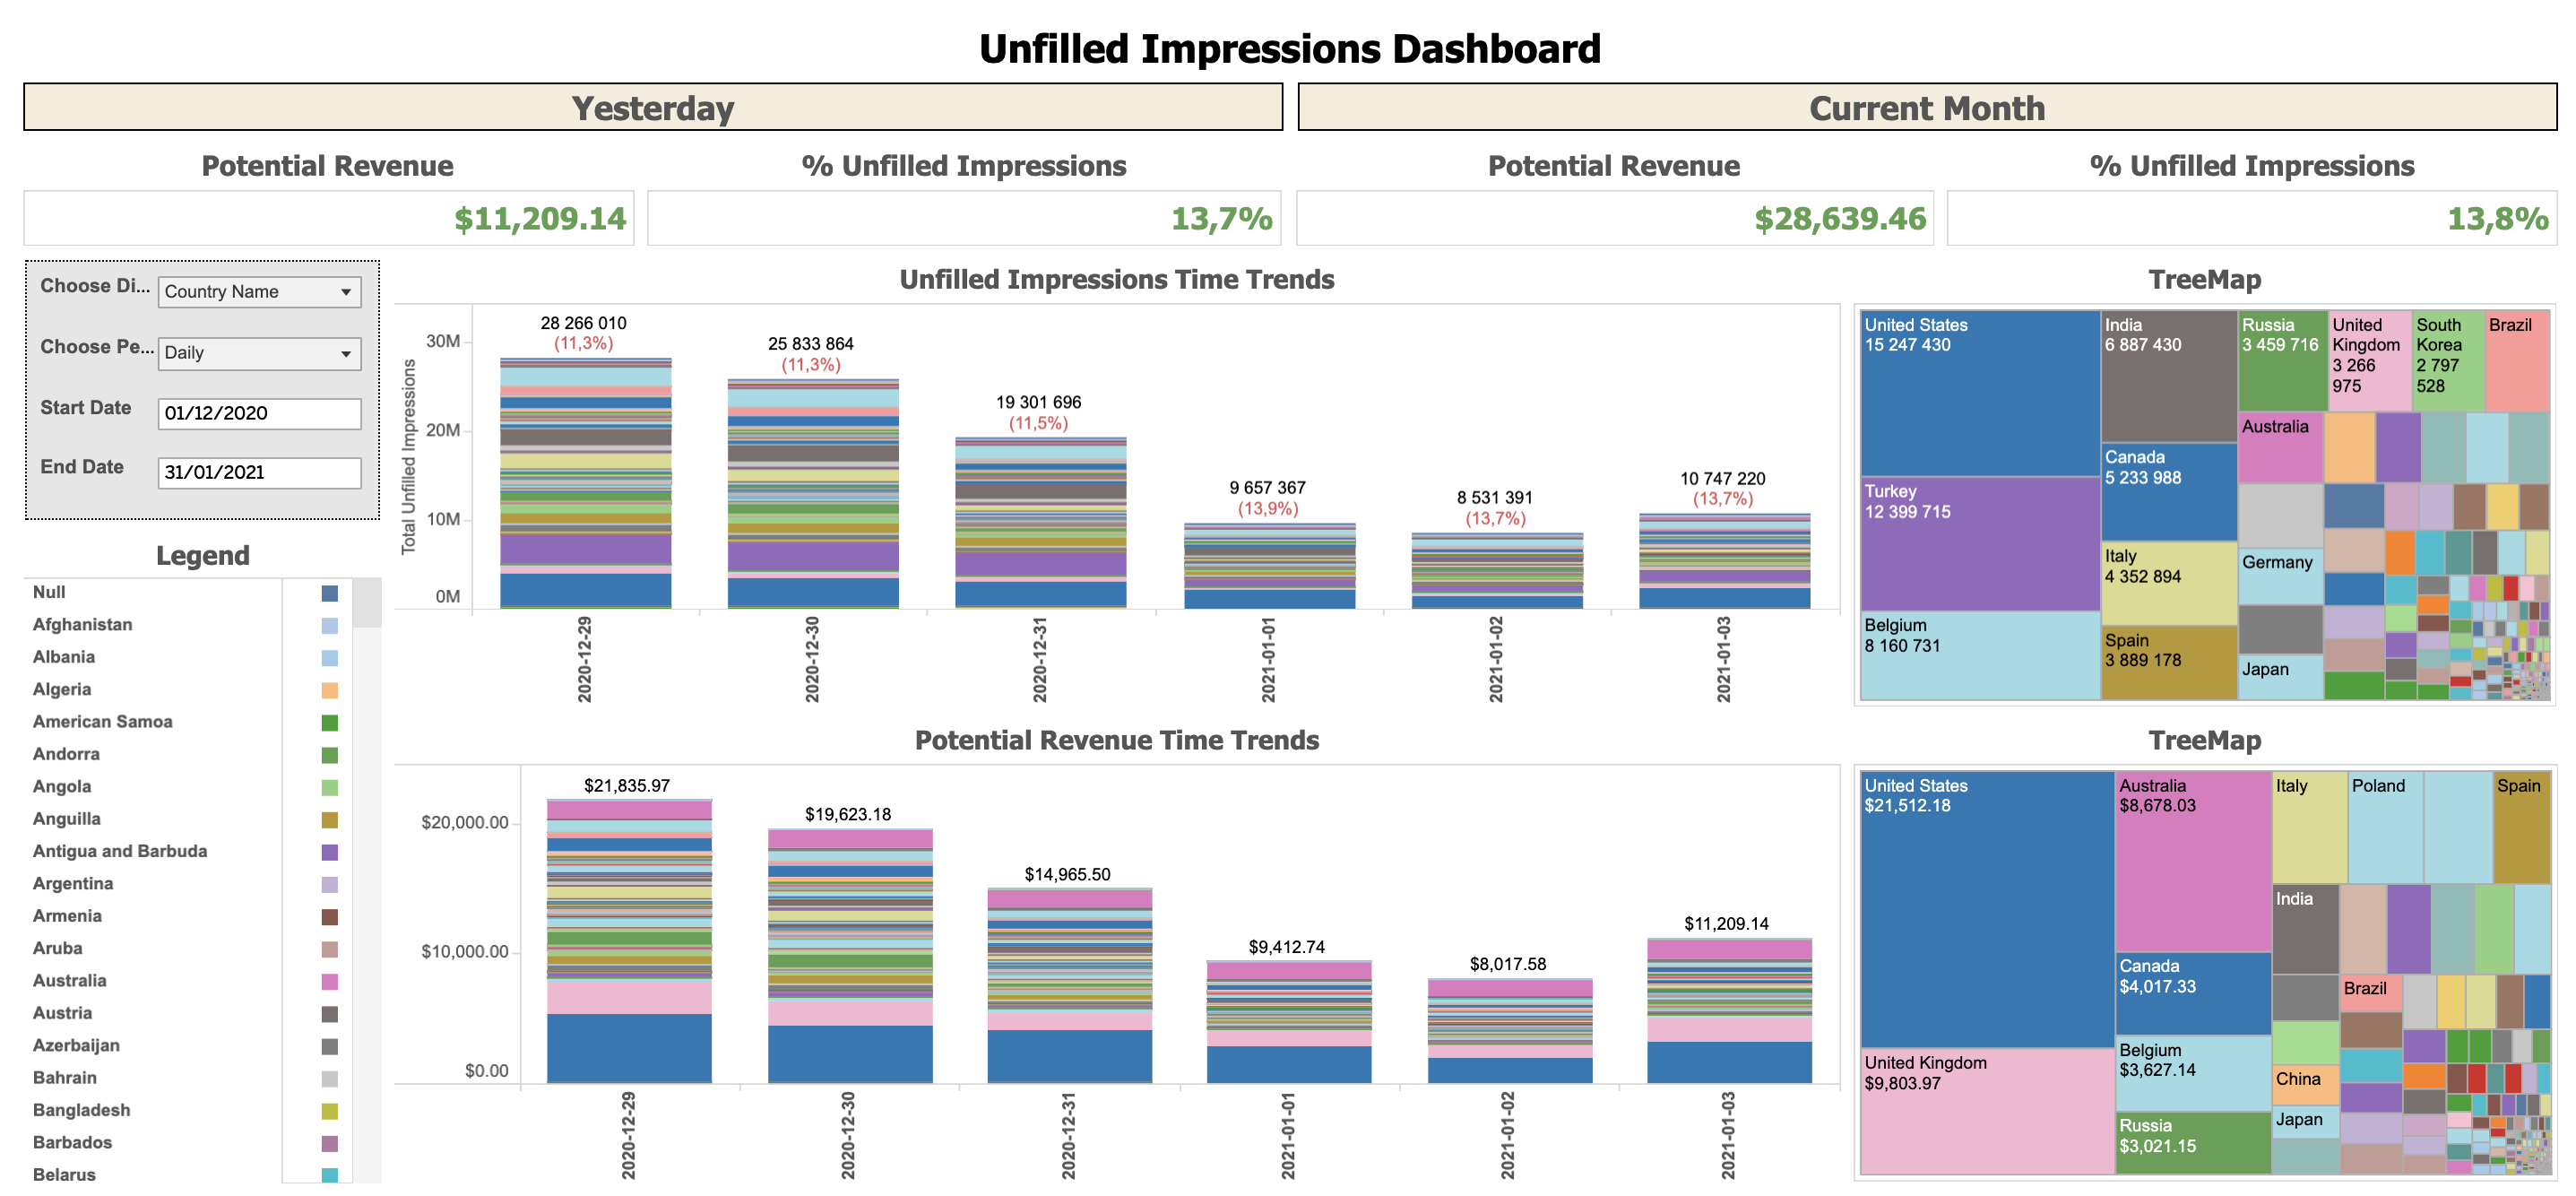

This screenshot's page, from the dashboard's own definition file:
{"tool":"tableau","page":{"name":"Dashboard","canvas":[1000,1000],"units":"permille","ordinal":0},"visuals":[{"type":"text","box":[7.8,9.8,984.4,50.2]},{"type":"text","box":[7.8,60,492.1,50.3]},{"type":"text","box":[499.9,60,492.3,50.3]},{"type":"worksheet","title":"KPI - Potential Revenue Yesterday","mark":"Automatic","box":[7.8,110.3,241,95.9]},{"type":"worksheet","title":"KPI - % Unfilled Yesterday","mark":"Automatic","box":[248.8,110.3,250.7,95.9]},{"type":"worksheet","title":"KPI - Potential Revenue Current Month","mark":"Automatic","box":[499.5,110.3,251.5,95.9]},{"type":"worksheet","title":"KPI - % Unfilled Current Month","mark":"Automatic","box":[751,110.3,241.2,95.9]},{"type":"worksheet","title":"Unfilled Impressions Time Trends","mark":"Bar","rows":["total_inventory_level_unfilled_impressions","total_inventory_level_unfilled_impressions"],"cols":["Calculation_868772569713889291"],"box":[151.5,206.1,563.3,385.6]},{"type":"worksheet","title":"Unfilled Impressions Treemap","mark":"Automatic","box":[714.8,206.1,277.4,385.6]},{"type":"parameter","param":"[Parameters].[Parameter 1]","box":[16.4,216.8,126.6,52.7]},{"type":"parameter","param":"[Parameters].[Parameter 4]","box":[16.4,269.5,126.6,52.7]},{"type":"parameter","param":"[Parameters].[Parameter 2]","box":[16.4,322.3,126.6,52.7]},{"type":"parameter","param":"[Parameters].[Parameter 3]","box":[16.4,375,126.6,51.8]},{"type":"worksheet","title":"Legend","mark":"Automatic","rows":["Calculation_868772569673990149"],"box":[7.8,437.1,143.7,553.1]},{"type":"worksheet","title":"Potential Revenue Time Trends","mark":"Bar","rows":["potential_revenue","potential_revenue"],"cols":["Calculation_868772569713889291"],"box":[151.5,591.7,563.6,398.5]},{"type":"worksheet","title":"Potential Revenue Treemap","mark":"Automatic","box":[715.1,591.7,277.1,398.5]}]}

Visuals, with their boxes on the dashboard's canvas, which has no fixed pixel size, in thousandths of its width and height (x1, y1, x2, y2). These are canvas units, not pixel positions in the 2576x1196 screenshot, which may show the page scaled, cropped or inside an application window:
text: x1=8, y1=10, x2=992, y2=60
text: x1=8, y1=60, x2=500, y2=110
text: x1=500, y1=60, x2=992, y2=110
"KPI - Potential Revenue Yesterday" worksheet: x1=8, y1=110, x2=249, y2=206
"KPI - % Unfilled Yesterday" worksheet: x1=249, y1=110, x2=500, y2=206
"KPI - Potential Revenue Current Month" worksheet: x1=500, y1=110, x2=751, y2=206
"KPI - % Unfilled Current Month" worksheet: x1=751, y1=110, x2=992, y2=206
"Unfilled Impressions Time Trends" worksheet (Bar marks): x1=152, y1=206, x2=715, y2=592
"Unfilled Impressions Treemap" worksheet: x1=715, y1=206, x2=992, y2=592
parameter: x1=16, y1=217, x2=143, y2=270
parameter: x1=16, y1=270, x2=143, y2=322
parameter: x1=16, y1=322, x2=143, y2=375
parameter: x1=16, y1=375, x2=143, y2=427
"Legend" worksheet: x1=8, y1=437, x2=152, y2=990
"Potential Revenue Time Trends" worksheet (Bar marks): x1=152, y1=592, x2=715, y2=990
"Potential Revenue Treemap" worksheet: x1=715, y1=592, x2=992, y2=990
